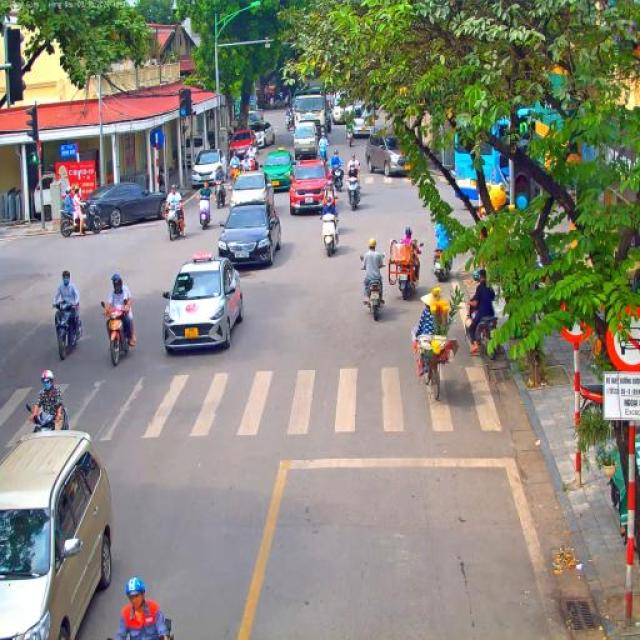bus: (449, 98, 583, 218)
car: (0, 427, 114, 640), (162, 251, 244, 355), (217, 200, 282, 271), (83, 182, 169, 228), (364, 126, 427, 180), (288, 159, 329, 216), (228, 170, 274, 211), (192, 148, 228, 190), (262, 150, 297, 190), (293, 121, 319, 160), (228, 130, 258, 161), (352, 102, 376, 138), (247, 121, 275, 149)
motorcycle: (101, 297, 134, 368), (388, 237, 424, 301), (466, 300, 500, 360), (52, 300, 83, 362), (360, 256, 386, 322), (60, 202, 102, 238), (564, 382, 604, 417), (26, 402, 70, 433), (319, 212, 340, 258), (431, 246, 454, 283), (164, 202, 184, 242), (198, 196, 212, 232), (347, 178, 362, 211), (212, 180, 227, 210), (323, 194, 339, 221), (330, 163, 344, 193), (231, 163, 243, 188), (317, 144, 328, 168), (348, 163, 362, 181), (246, 156, 256, 172), (346, 127, 354, 147), (284, 116, 292, 132), (269, 98, 276, 110)
truck: (293, 90, 328, 139), (332, 90, 354, 125), (322, 91, 333, 130)
